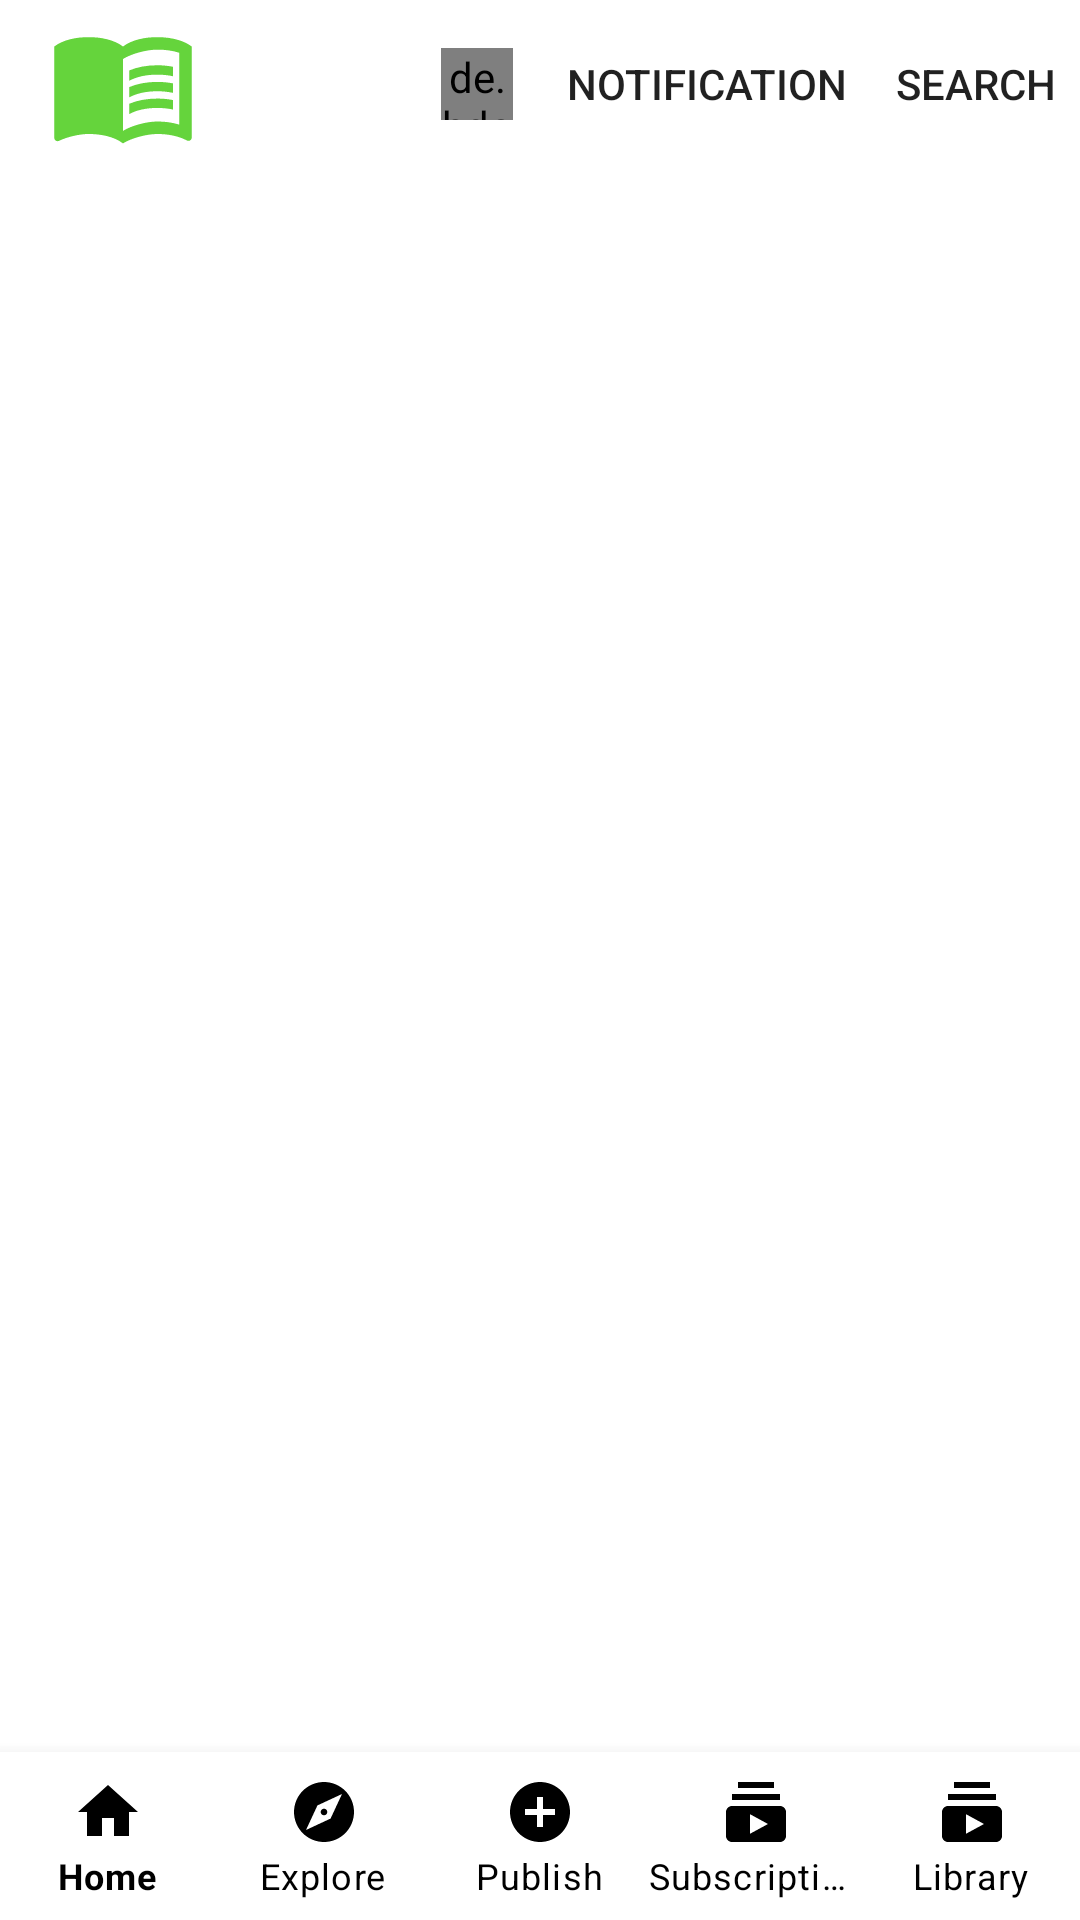

Locate icon controls on the screen. Image size 1080 x 1920, boxes as (x1, y1, x2, y2).
book: (54, 37, 192, 143)
